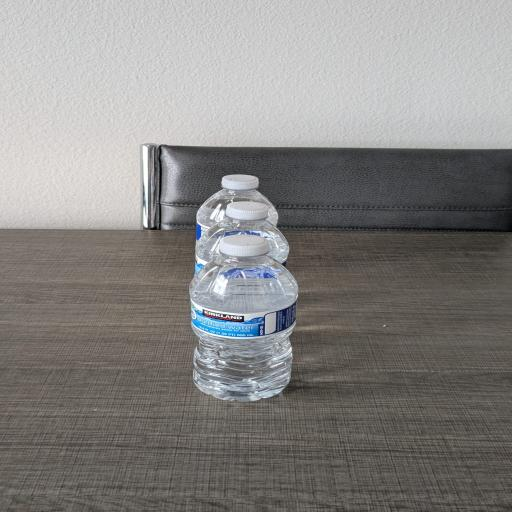waterbottle: (190, 235, 297, 401), (196, 202, 289, 273), (196, 175, 278, 239)
